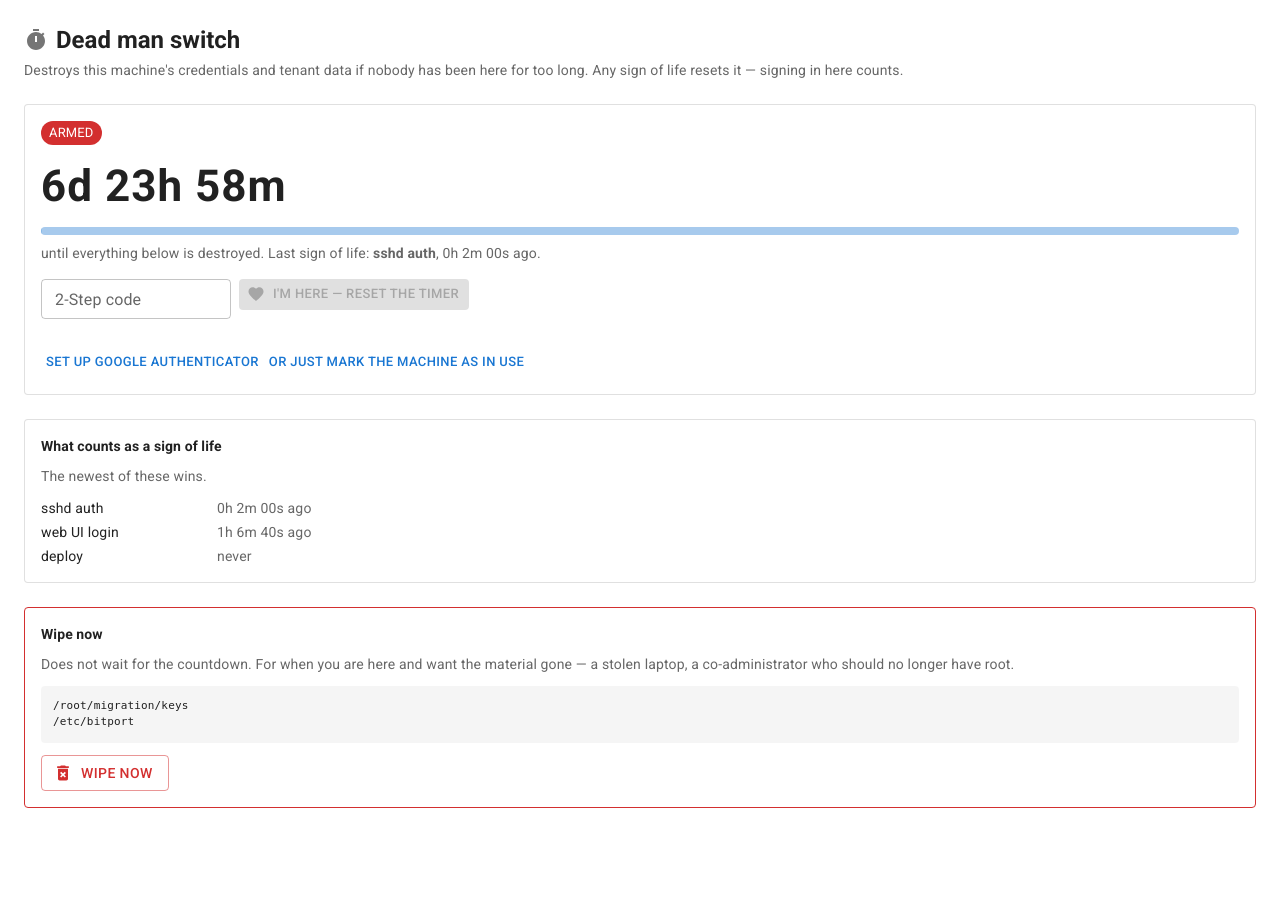
it: checking in › says why a code was rejected instead of looking reset
This screenshot has width=1280, height=900.
Type "000000" into the field with test id "checkin-code" at (136, 299), box [41,279,231,319]
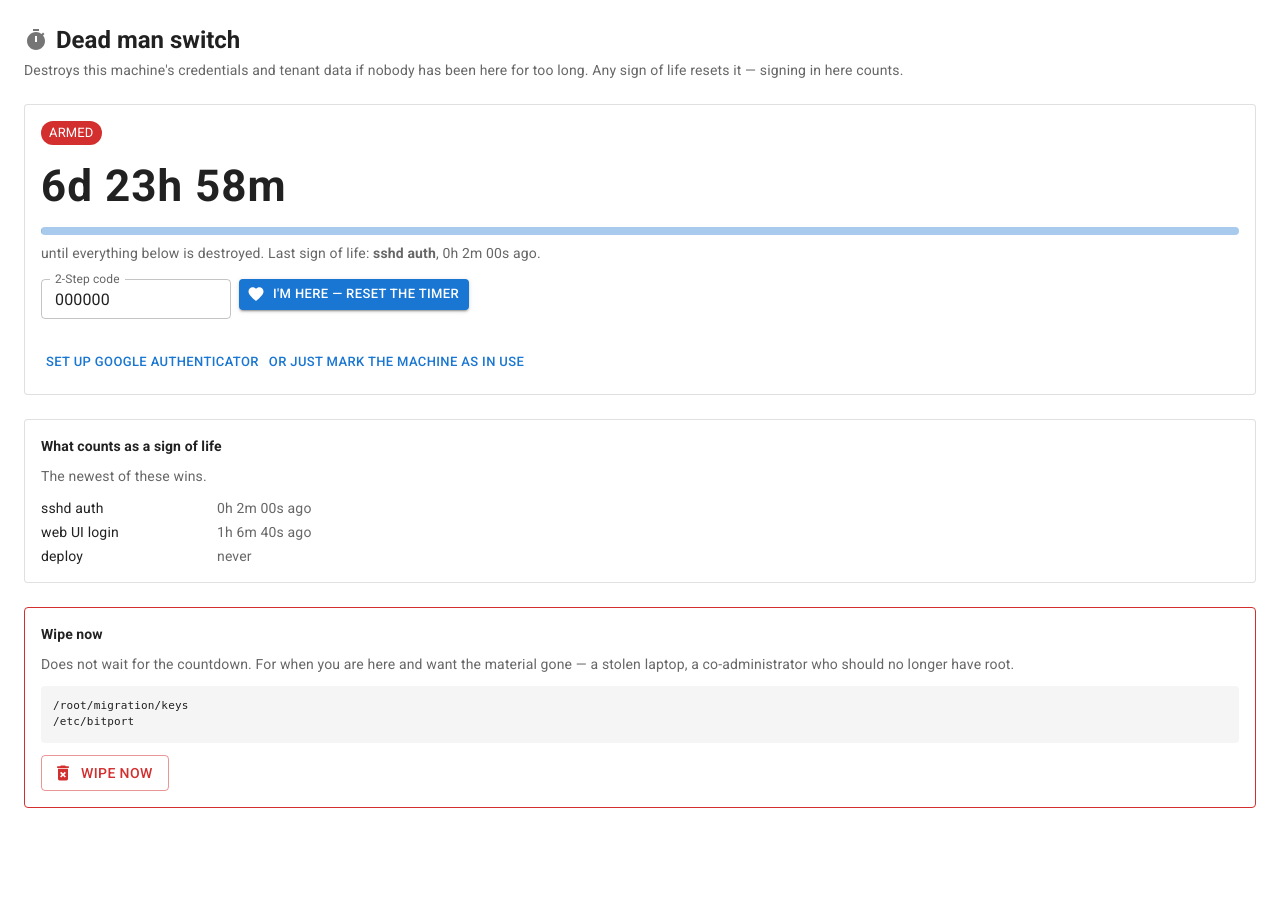
Click the button with test id "deadman-checkin" at (354, 294), box [239,279,469,310]
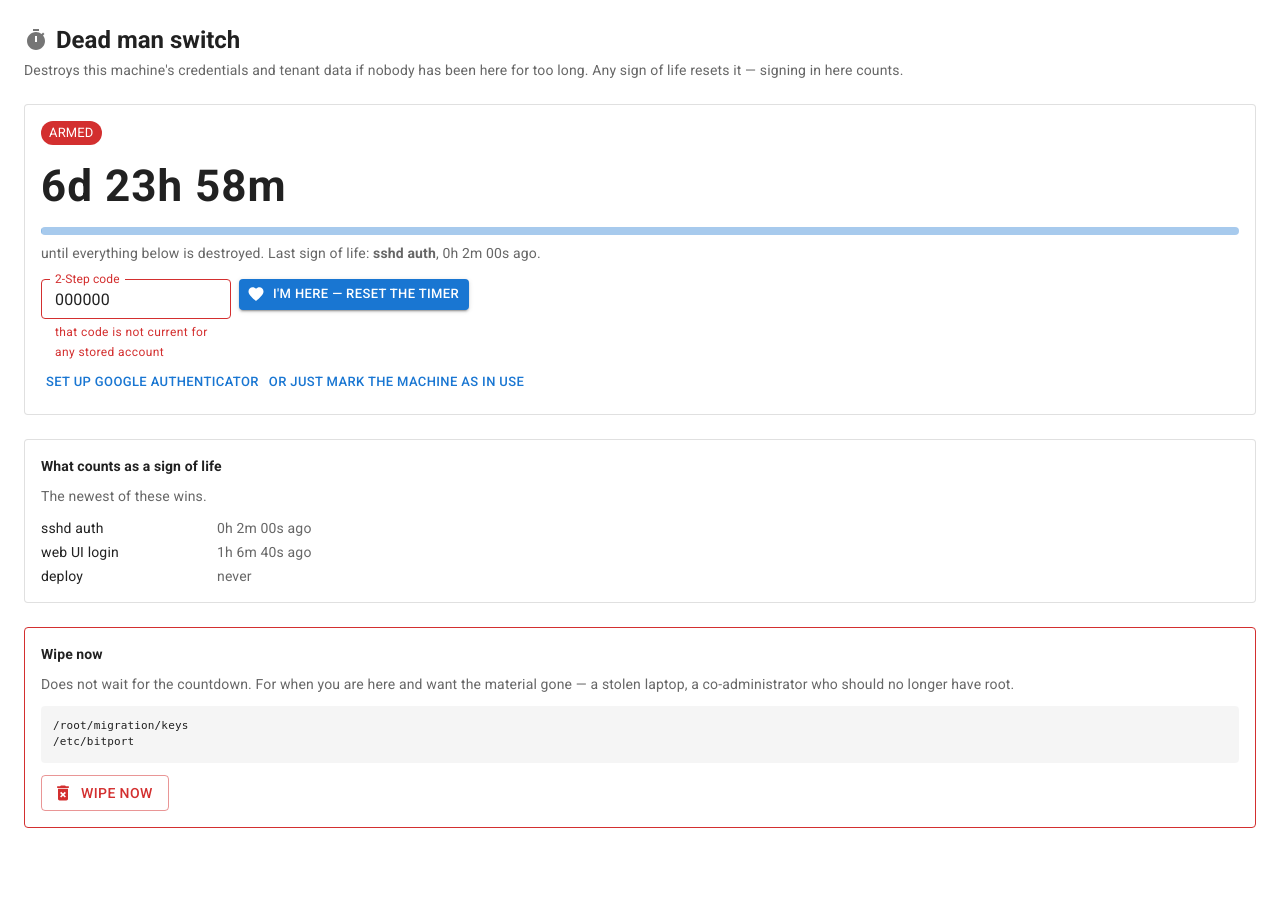
Expected: the text "that code is not current for any stored account" is shown, [55,323,217,363]
